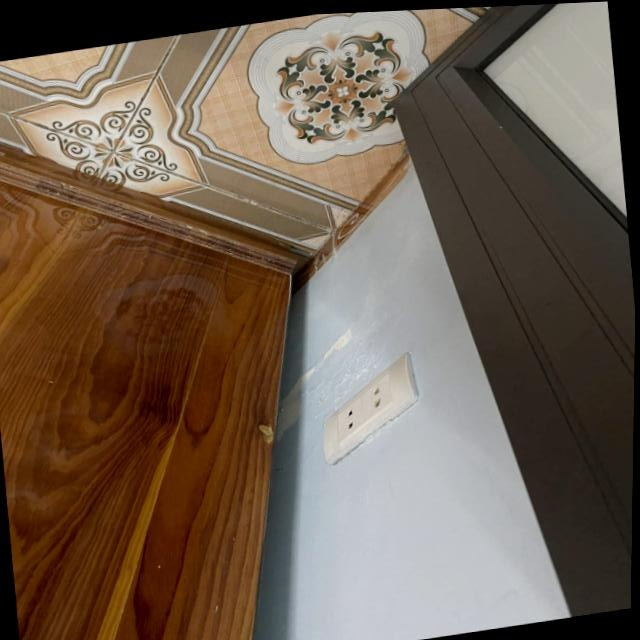outlet: (315, 349, 427, 466)
